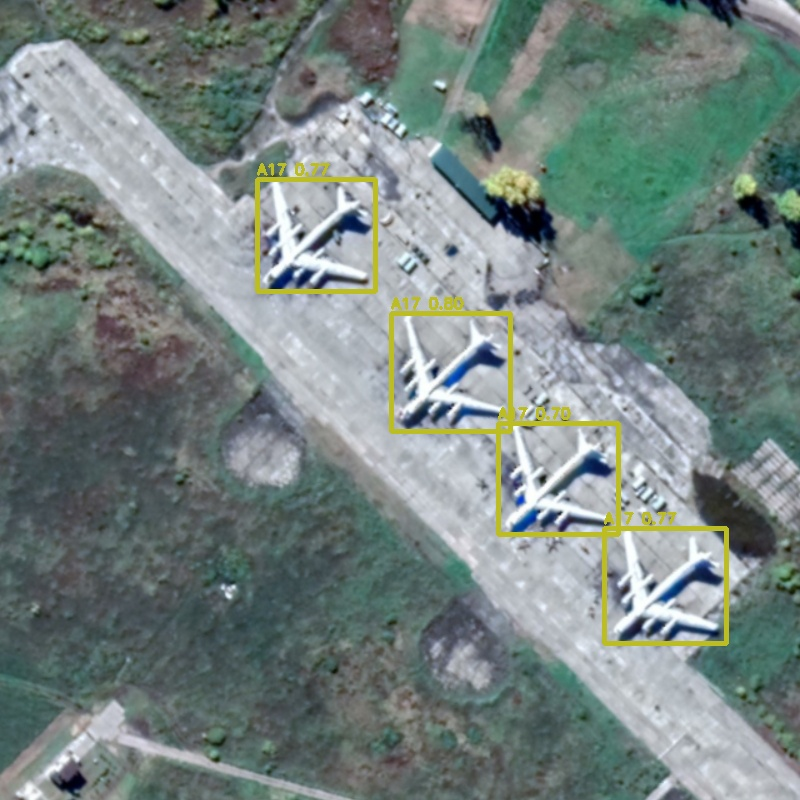A17: (391, 313, 510, 431), (604, 528, 726, 643), (498, 423, 618, 534), (257, 179, 375, 291)
